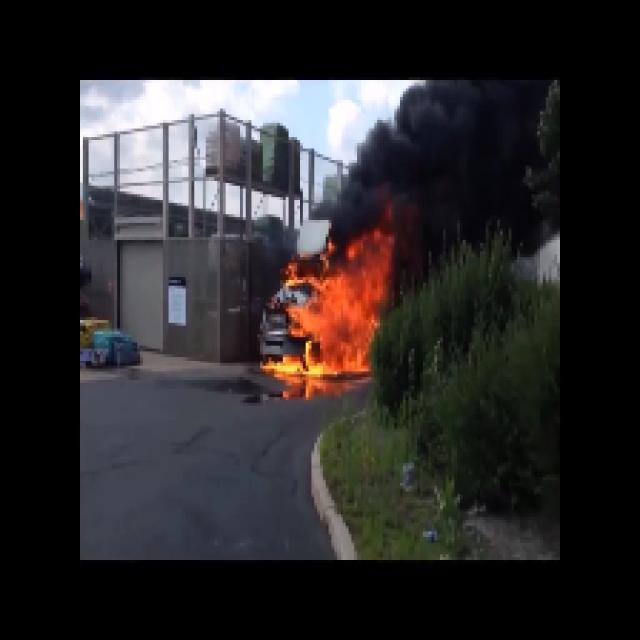fire: (392, 84, 534, 245), (281, 251, 380, 385)
